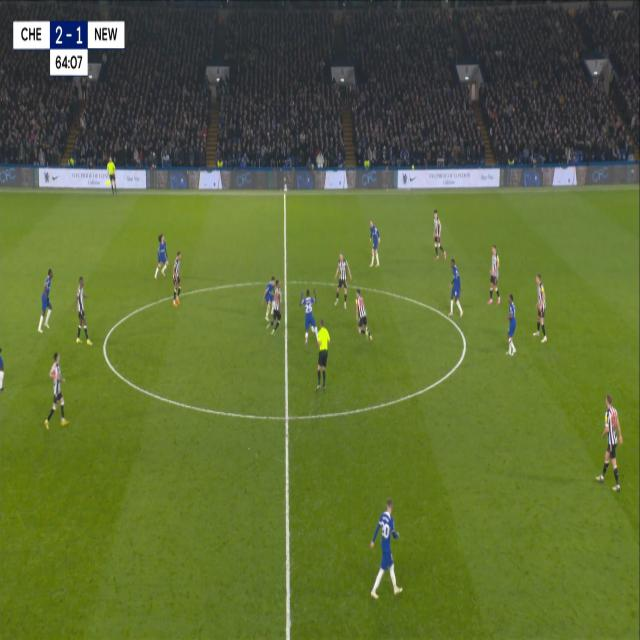Chelsea: (366, 492, 406, 604), (36, 263, 54, 335), (299, 284, 320, 342), (504, 290, 518, 360), (366, 214, 383, 271), (448, 258, 463, 320), (153, 229, 169, 283)
New castle: (593, 390, 625, 497), (46, 348, 69, 434), (73, 272, 92, 346), (331, 248, 353, 311), (354, 287, 373, 346), (487, 239, 502, 307), (533, 272, 547, 344), (431, 204, 448, 262), (172, 250, 183, 306)
Refree: (314, 323, 330, 383)
